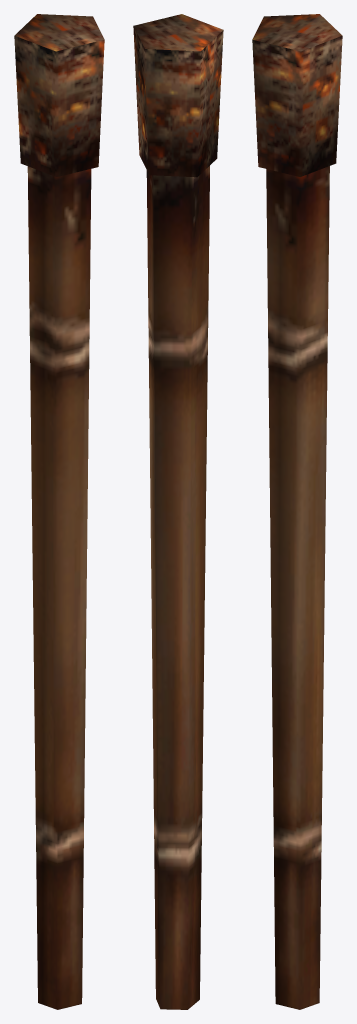
File: generaltorch01.glb
3 views of the same model, side by side, from view 1: azimuth 30°, elevation 25°; view 2: azimuth 210°, elevation 25°; view 3: azimuth 330°, elevation 25° (orthographic).
Size of the model in its own units: 0.1876 by 2.21 by 0.1785.
1 material, 1 textured.
